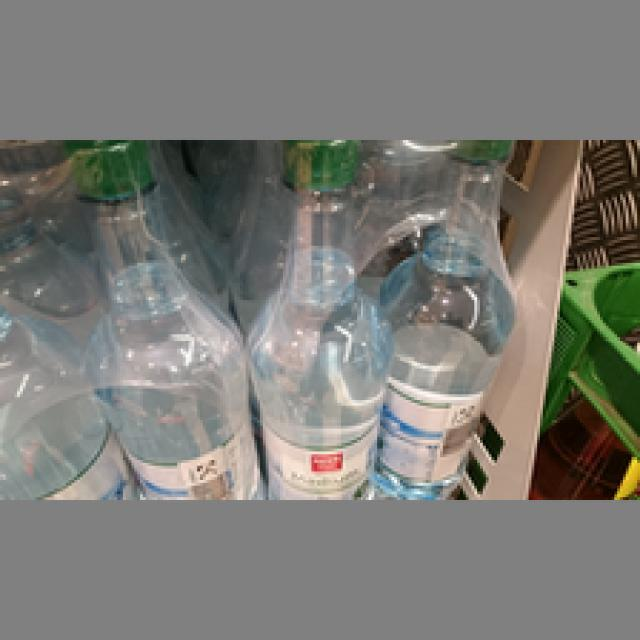groceries: (57, 140, 254, 494), (234, 140, 380, 497), (374, 137, 512, 494)
